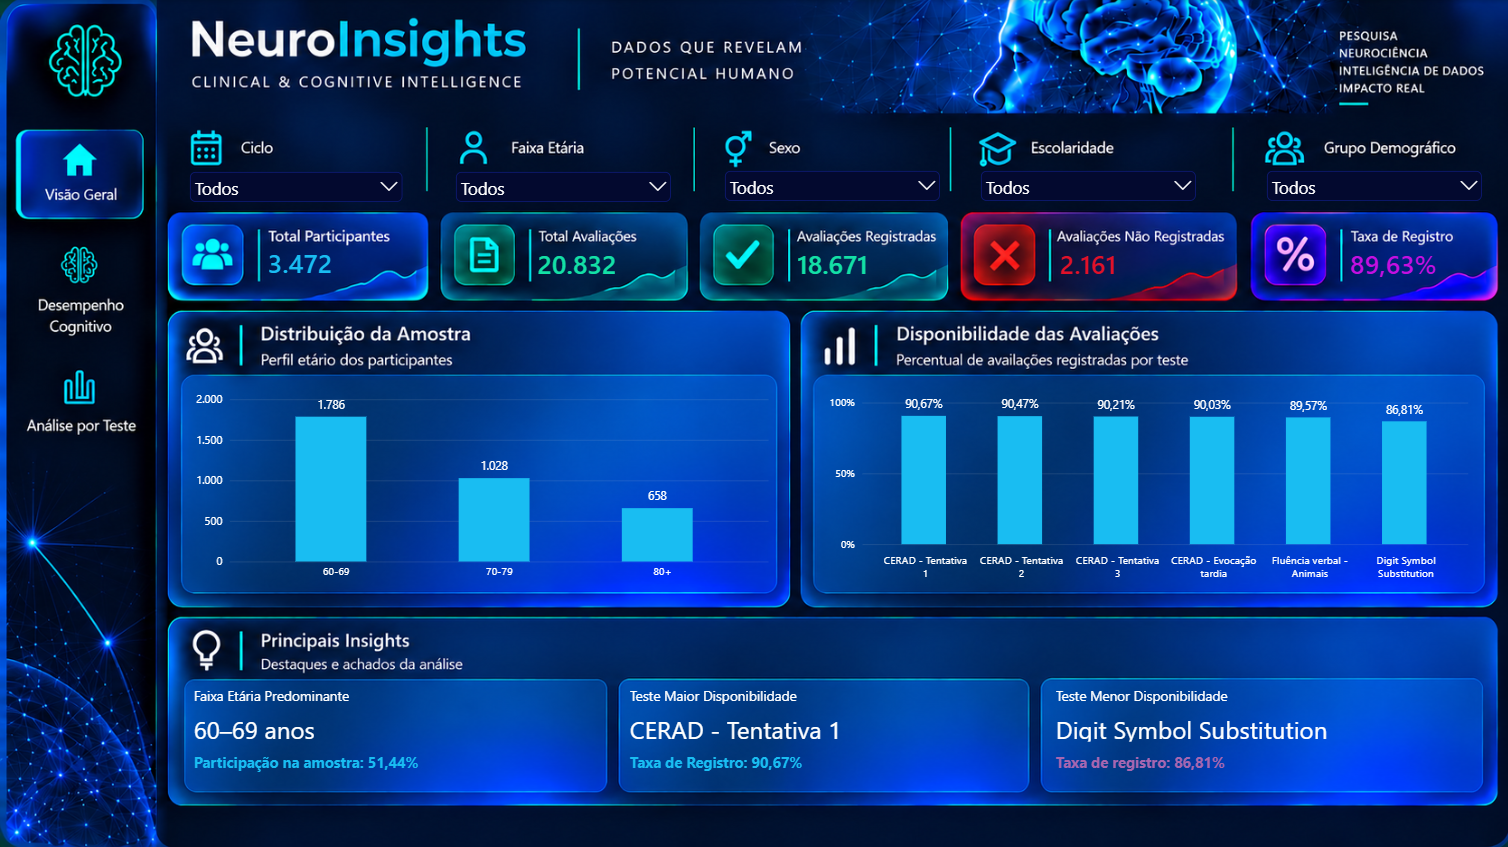

The page's visual inventory and layout, read from the dashboard file:
{"tool":"powerbi","page":{"name":"Visão Geral ","canvas":[1920,1080],"ordinal":0},"visuals":[{"type":"slicer","fields":{"Values":["dim_ciclo.ciclo"]},"box":[236.5,213.5,279.5,57.2],"z":0},{"type":"slicer","fields":{"Values":["dim_participante.faixa_etaria"]},"box":[573.8,213.8,283.1,44.6],"z":1000},{"type":"slicer","fields":{"Values":["dim_participante.Sexo"]},"box":[916.2,212.3,283.1,46.2],"z":2000},{"type":"slicer","fields":{"Values":["dim_participante.Escolaridade"]},"box":[1240.8,212.3,283.1,47.7],"z":3000},{"type":"slicer","fields":{"Values":["dim_participante.Grupo Demográfico"]},"box":[1604.4,212.2,283.3,58.9],"z":4000},{"type":"clusteredColumnChart","fields":{"Category":["dim_participante.faixa_etaria"],"Y":["_Medidas.Total Participantes"]},"box":[232,476.5,760.2,279],"z":5000},{"type":"clusteredColumnChart","fields":{"Category":["dim_teste.teste"],"Y":["_Medidas.Taxa de Registro (%)"]},"box":[1036,476.5,846.4,279],"z":6000},{"type":"card","fields":{"Values":["_Medidas.Total Avaliações"]},"box":[588.3,303.7,289.7,64.8],"z":7000},{"type":"card","fields":{"Values":["_Medidas.Avaliações Registradas"]},"box":[908.5,303.7,298.6,64.8],"z":8000},{"type":"card","fields":{"Values":["_Medidas.Avaliações Não Registradas"]},"box":[1224.8,303.7,315.1,64.8],"z":9000},{"type":"card","fields":{"Values":["_Medidas.Taxa de Registro (%)"]},"box":[1632.7,303.7,275.7,64.8],"z":10000},{"type":"card","fields":{"Values":["_Medidas.Total Participantes"]},"box":[223.6,302.4,315.1,64.8],"z":11000},{"type":"cardVisual","fields":{"Data":["_Medidas.Faixa Etária Predominante"]},"box":[232.5,875.4,526,134.7],"z":12000},{"type":"cardVisual","fields":{"Data":["_Medidas.Teste Maior Disponibilidade"]},"box":[786.6,875,525,134.1],"z":13000},{"type":"cardVisual","fields":{"Data":["_Medidas.Teste Menor Disponibilidade"]},"box":[1327.8,875.4,552.8,134.1],"z":14000},{"type":"actionButton","box":[41.9,297.3,118.2,81.3],"z":14001},{"type":"actionButton","box":[41.9,456.1,108,67.3],"z":14002}]}

Visuals, with their boxes on the page's 1920x1080 design canvas (x1, y1, x2, y2). These are canvas units, not pixel positions in the 1508x847 screenshot, which may show the page scaled, cropped or inside an application window:
slicer - dim_ciclo.ciclo: rect(236, 214, 516, 271)
slicer - dim_participante.faixa_etaria: rect(574, 214, 857, 258)
slicer - dim_participante.Sexo: rect(916, 212, 1199, 258)
slicer - dim_participante.Escolaridade: rect(1241, 212, 1524, 260)
slicer - dim_participante.Grupo Demográfico: rect(1604, 212, 1888, 271)
clusteredColumnChart - dim_participante.faixa_etaria x _Medidas.Total Participantes: rect(232, 476, 992, 756)
clusteredColumnChart - dim_teste.teste x _Medidas.Taxa de Registro (%): rect(1036, 476, 1882, 756)
card - _Medidas.Total Avaliações: rect(588, 304, 878, 368)
card - _Medidas.Avaliações Registradas: rect(908, 304, 1207, 368)
card - _Medidas.Avaliações Não Registradas: rect(1225, 304, 1540, 368)
card - _Medidas.Taxa de Registro (%): rect(1633, 304, 1908, 368)
card - _Medidas.Total Participantes: rect(224, 302, 539, 367)
cardVisual - _Medidas.Faixa Etária Predominante: rect(232, 875, 758, 1010)
cardVisual - _Medidas.Teste Maior Disponibilidade: rect(787, 875, 1312, 1009)
cardVisual - _Medidas.Teste Menor Disponibilidade: rect(1328, 875, 1881, 1010)
actionButton: rect(42, 297, 160, 379)
actionButton: rect(42, 456, 150, 523)
